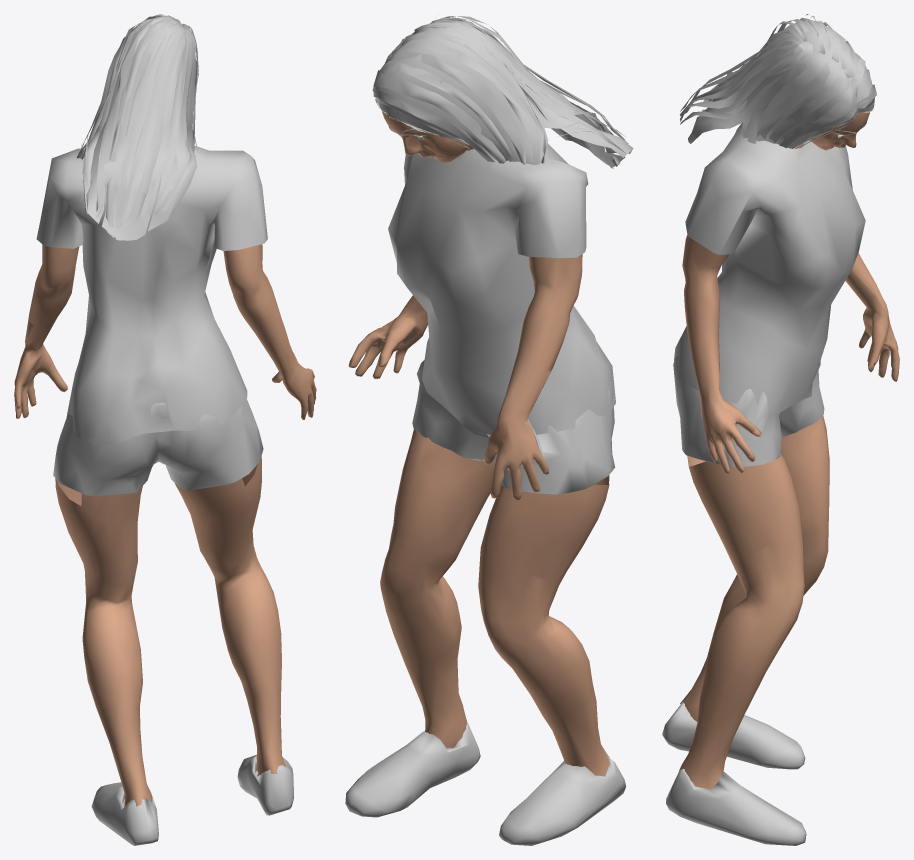
File: player2att_000005.obj
The picture shows the model from 3 angles, left to right: view 1: azimuth 30°, elevation 25°; view 2: azimuth 150°, elevation 25°; view 3: azimuth 270°, elevation 25°; orthographic projection. The views are drawn at different scales.
Visible parts, largest first — view 1: player2:Body, player2:tshirt02, player2:fhair01, player2:short01, player2:shoes02; view 2: player2:Body, player2:tshirt02, player2:fhair01, player2:shoes02, player2:short01; view 3: player2:Body, player2:tshirt02, player2:fhair01, player2:shoes02, player2:short01.
Part boxes in pixels (x1=…): player2:Body: x1=14, y1=244, x2=316, y2=806; player2:tshirt02: x1=36, y1=146, x2=267, y2=445; player2:fhair01: x1=77, y1=14, x2=198, y2=240; player2:short01: x1=53, y1=400, x2=263, y2=495; player2:shoes02: x1=91, y1=754, x2=293, y2=845; player2:Body: x1=348, y1=111, x2=609, y2=775; player2:tshirt02: x1=388, y1=143, x2=615, y2=434; player2:fhair01: x1=372, y1=16, x2=633, y2=168; player2:shoes02: x1=345, y1=722, x2=625, y2=845; player2:short01: x1=412, y1=360, x2=615, y2=494; player2:Body: x1=679, y1=112, x2=899, y2=789; player2:tshirt02: x1=674, y1=123, x2=865, y2=414; player2:fhair01: x1=680, y1=14, x2=876, y2=148; player2:shoes02: x1=662, y1=702, x2=806, y2=845; player2:short01: x1=673, y1=356, x2=824, y2=466.
Bounding box in the file's own units: 5.41 × 16.26 × 4.49.
